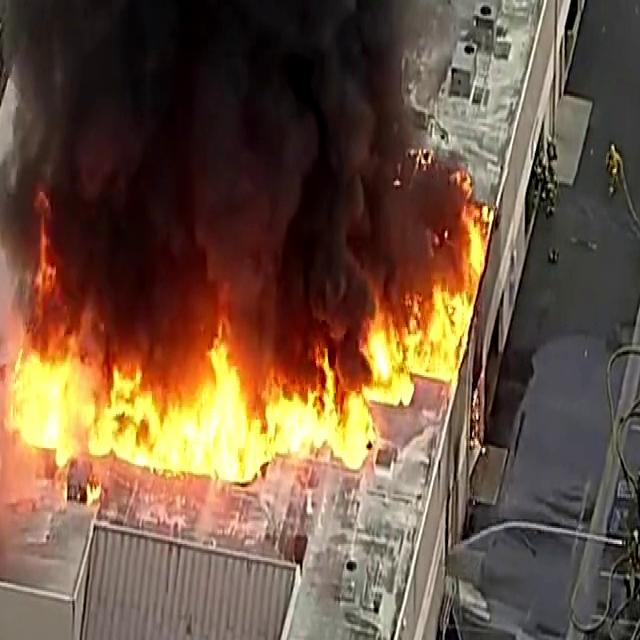fire: (101, 309, 252, 517), (5, 170, 101, 465), (384, 187, 474, 401), (268, 323, 384, 470)
smoke: (11, 0, 430, 281)
